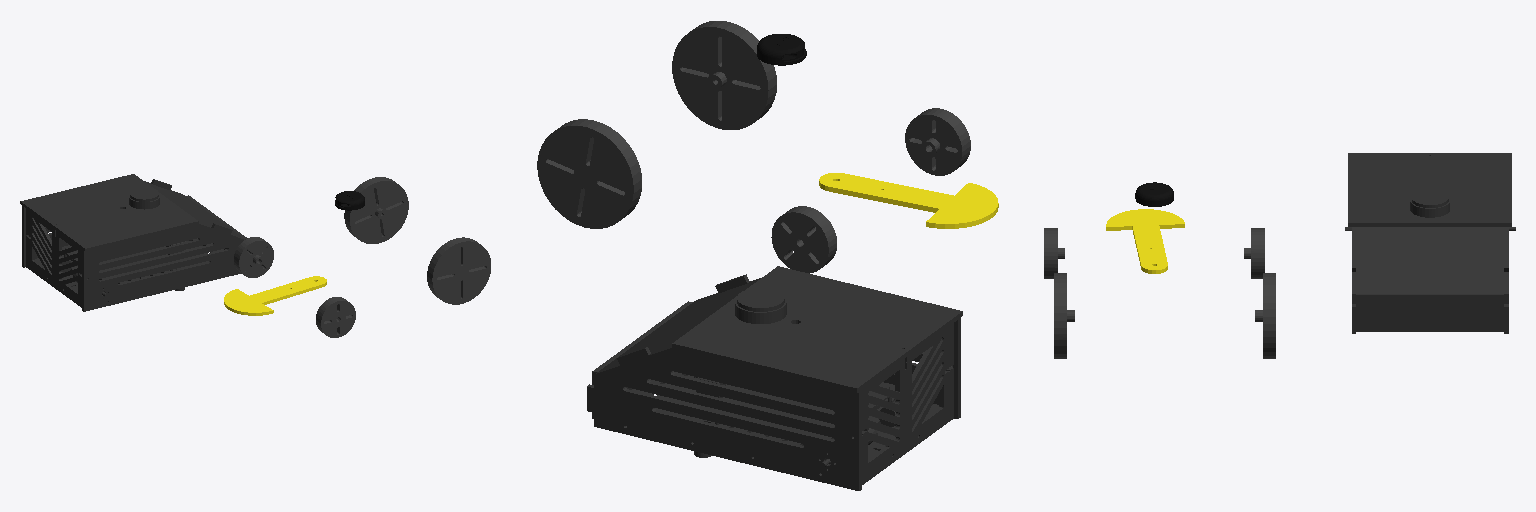
The robot description file, URDF, robot "metal_detector_bot":
<?xml version="1.0" encoding="utf-8"?>
<!-- This URDF was automatically created by SolidWorks to URDF Exporter! Originally created by [author] ([email redacted]) 
     Commit Version: 1.6.0-1-g15f4949  Build Version: 1.6.7594.29634
     For more information, please see http://wiki.ros.org/sw_urdf_exporter -->
<robot
  name="metal_detector_bot">
  <link
    name="base_link">
    <inertial>
      <origin
        xyz="0.324697690746331 -0.519406767156155 0.192858657939441"
        rpy="0 0 0" />
      <mass
        value="3.68397420212594" />
      <inertia
        ixx="0.0209130525071478"
        ixy="6.08657151565062E-07"
        ixz="-0.00129761516660942"
        iyy="0.0391259397176633"
        iyz="1.5992950501523E-08"
        izz="0.0539534827114343" />
    </inertial>
    <visual>
      <origin
        xyz="0 0 0"
        rpy="0 0 0" />
      <geometry>
        <mesh
          filename="package://metal_detector_bot/meshes/base_link.STL" />
      </geometry>
      <material
        name="">
        <color
          rgba="0.250980392156863 0.250980392156863 0.250980392156863 1" />
      </material>
    </visual>
    <collision>
      <origin
        xyz="0 0 0"
        rpy="0 0 0" />
      <geometry>
        <mesh
          filename="package://metal_detector_bot/meshes/base_link.STL" />
      </geometry>
    </collision>
  </link>
  <link
    name="Back_left_wheel_link">
    <inertial>
      <origin
        xyz="0 0 0.0262587770530892"
        rpy="0 0 0" />
      <mass
        value="0.49830589190105" />
      <inertia
        ixx="0.000864068748819036"
        ixy="-1.53511821201862E-21"
        ixz="-3.38949670235677E-20"
        iyy="0.000864068748819036"
        iyz="-1.0316315853768E-21"
        izz="0.00167126892614855" />
    </inertial>
    <visual>
      <origin
        xyz="0 0 0"
        rpy="0 0 0" />
      <geometry>
        <mesh
          filename="package://metal_detector_bot/meshes/Back_left_wheel_link.STL" />
      </geometry>
      <material
        name="">
        <color
          rgba="0.298039215686275 0.298039215686275 0.298039215686275 1" />
      </material>
    </visual>
    <collision>
      <origin
        xyz="0 0 0"
        rpy="0 0 0" />
      <geometry>
        <mesh
          filename="package://metal_detector_bot/meshes/Back_left_wheel_link.STL" />
      </geometry>
    </collision>
  </link>
  <joint
    name="Back_left_wheel_joint"
    type="continuous">
    <origin
      xyz="0.48383 -0.66997 0.14637"
      rpy="1.5708 0 0" />
    <parent
      link="base_link" />
    <child
      link="Back_left_wheel_link" />
    <axis
      xyz="0 0 1" />
    <limit
      lower="0"
      upper="0"
      effort="0"
      velocity="0" />
  </joint>
  <link
    name="Back_right_wheel_link">
    <inertial>
      <origin
        xyz="-1.38777878078145E-17 1.11022302462516E-16 -0.0128912229469108"
        rpy="0 0 0" />
      <mass
        value="0.498305891901051" />
      <inertia
        ixx="0.000864068748819039"
        ixy="2.71050543121376E-20"
        ixz="-9.34238749322121E-20"
        iyy="0.000864068748819038"
        iyz="6.50887516749926E-19"
        izz="0.00167126892614856" />
    </inertial>
    <visual>
      <origin
        xyz="0 0 0"
        rpy="0 0 0" />
      <geometry>
        <mesh
          filename="package://metal_detector_bot/meshes/Back_right_wheel_link.STL" />
      </geometry>
      <material
        name="">
        <color
          rgba="0.298039215686275 0.298039215686275 0.298039215686275 1" />
      </material>
    </visual>
    <collision>
      <origin
        xyz="0 0 0"
        rpy="0 0 0" />
      <geometry>
        <mesh
          filename="package://metal_detector_bot/meshes/Back_right_wheel_link.STL" />
      </geometry>
    </collision>
  </link>
  <joint
    name="Back_right_wheel_joint"
    type="continuous">
    <origin
      xyz="0.48383 -0.32952 0.14637"
      rpy="1.5708 -1.3963 3.1416" />
    <parent
      link="base_link" />
    <child
      link="Back_right_wheel_link" />
    <axis
      xyz="0 0 1" />
    <limit
      lower="0"
      upper="0"
      effort="0"
      velocity="0" />
  </joint>
  <link
    name="Front_left_wheel_link">
    <inertial>
      <origin
        xyz="-2.77555756156289E-17 -1.38777878078145E-17 0.0260109649102439"
        rpy="0 0 0" />
      <mass
        value="0.172260974459748" />
      <inertia
        ixx="0.000112055736650577"
        ixy="1.02659101699552E-21"
        ixz="5.48524870394726E-22"
        iyy="0.000112055736650577"
        iyz="2.96384707822115E-22"
        izz="0.000202988063086608" />
    </inertial>
    <visual>
      <origin
        xyz="0 0 0"
        rpy="0 0 0" />
      <geometry>
        <mesh
          filename="package://metal_detector_bot/meshes/Front_left_wheel_link.STL" />
      </geometry>
      <material
        name="">
        <color
          rgba="0.298039215686275 0.298039215686275 0.298039215686275 1" />
      </material>
    </visual>
    <collision>
      <origin
        xyz="0 0 0"
        rpy="0 0 0" />
      <geometry>
        <mesh
          filename="package://metal_detector_bot/meshes/Front_left_wheel_link.STL" />
      </geometry>
    </collision>
  </link>
  <joint
    name="Front_left_wheel_joint"
    type="continuous">
    <origin
      xyz="0.13457 -0.68787 0.11335"
      rpy="1.5708 0 0" />
    <parent
      link="base_link" />
    <child
      link="Front_left_wheel_link" />
    <axis
      xyz="0 0 1" />
    <limit
      lower="0"
      upper="0"
      effort="0"
      velocity="0" />
  </joint>
  <link
    name="Front_right_wheel_link">
    <inertial>
      <origin
        xyz="3.05311331771918E-16 -4.16333634234434E-16 -0.0131390350897561"
        rpy="0 0 0" />
      <mass
        value="0.172260974459748" />
      <inertia
        ixx="0.000112055736650577"
        ixy="1.35525271560688E-20"
        ixz="-2.75192086644509E-20"
        iyy="0.000112055736650577"
        iyz="3.91038572204568E-20"
        izz="0.000202988063086608" />
    </inertial>
    <visual>
      <origin
        xyz="0 0 0"
        rpy="0 0 0" />
      <geometry>
        <mesh
          filename="package://metal_detector_bot/meshes/Front_right_wheel_link.STL" />
      </geometry>
      <material
        name="">
        <color
          rgba="0.298039215686275 0.298039215686275 0.298039215686275 1" />
      </material>
    </visual>
    <collision>
      <origin
        xyz="0 0 0"
        rpy="0 0 0" />
      <geometry>
        <mesh
          filename="package://metal_detector_bot/meshes/Front_right_wheel_link.STL" />
      </geometry>
    </collision>
  </link>
  <joint
    name="Front_right_wheel_joint"
    type="continuous">
    <origin
      xyz="0.13457 -0.31162 0.11335"
      rpy="1.5708 -0.87933 3.1416" />
    <parent
      link="base_link" />
    <child
      link="Front_right_wheel_link" />
    <axis
      xyz="0 0 1" />
    <limit
      lower="0"
      upper="0"
      effort="0"
      velocity="0" />
  </joint>
  <link
    name="Lidar_link">
    <inertial>
      <origin
        xyz="-6.79587614786925E-05 0.0127572143525103 -0.00287746273821438"
        rpy="0 0 0" />
      <mass
        value="0.0553297294575326" />
      <inertia
        ixx="1.77198970100708E-05"
        ixy="-5.03899483380146E-09"
        ixz="3.90650477574448E-08"
        iyy="3.29681799815038E-05"
        iyz="-2.52552357078286E-07"
        izz="1.80448127856945E-05" />
    </inertial>
    <visual>
      <origin
        xyz="0 0 0"
        rpy="0 0 0" />
      <geometry>
        <mesh
          filename="package://metal_detector_bot/meshes/Lidar_link.STL" />
      </geometry>
      <material
        name="">
        <color
          rgba="0.109803921568627 0.109803921568627 0.109803921568627 1" />
      </material>
    </visual>
    <collision>
      <origin
        xyz="0 0 0"
        rpy="0 0 0" />
      <geometry>
        <mesh
          filename="package://metal_detector_bot/meshes/Lidar_link.STL" />
      </geometry>
    </collision>
  </link>
  <joint
    name="Lidar_joint"
    type="revolute">
    <origin
      xyz="0.28528 -0.51932 0.297"
      rpy="1.5777 -0.00018804 -1.5436" />
    <parent
      link="base_link" />
    <child
      link="Lidar_link" />
    <axis
      xyz="0 1 0" />
    <limit
      lower="0"
      upper="0"
      effort="0"
      velocity="0" />
  </joint>
  <link
    name="Metal_detector_plate_link">
    <inertial>
      <origin
        xyz="-0.140649491426954 0.00399961617526758 -4.44089209850063E-16"
        rpy="0 0 0" />
      <mass
        value="0.150226233073953" />
      <inertia
        ixx="0.000116851232021106"
        ixy="-1.7623068319973E-19"
        ixz="-2.71558762889729E-18"
        iyy="0.00103678804074853"
        iyz="-9.96731230999088E-21"
        izz="0.000921539221880216" />
    </inertial>
    <visual>
      <origin
        xyz="0 0 0"
        rpy="0 0 0" />
      <geometry>
        <mesh
          filename="package://metal_detector_bot/meshes/Metal_detector_plate_link.STL" />
      </geometry>
      <material
        name="">
        <color
          rgba="1 0.937254901960784 0.137254901960784 1" />
      </material>
    </visual>
    <collision>
      <origin
        xyz="0 0 0"
        rpy="0 0 0" />
      <geometry>
        <mesh
          filename="package://metal_detector_bot/meshes/Metal_detector_plate_link.STL" />
      </geometry>
    </collision>
  </link>
  <joint
    name="Metal_detector_plate_joint"
    type="revolute">
    <origin
      xyz="0.19318 -0.51932 0.10936"
      rpy="1.5701 -0.0068962 0.093846" />
    <parent
      link="base_link" />
    <child
      link="Metal_detector_plate_link" />
    <axis
      xyz="0 1 0" />
    <limit
      lower="0"
      upper="0"
      effort="0"
      velocity="0" />
  </joint>

 <transmission name="left_wheel_transmission">
  <type>transmission_interface/SimpleTransmission</type>
  <joint name="Back_left_wheel_joint">
    <hardwareInterface>hardware_interface/VelocityJointInterface</hardwareInterface>  
  </joint>
  <actuator name="left_wheel_actuator">
    <mechanicalReduction>7</mechanicalReduction>
    <hardwareInterface>VelocityJointInterface</hardwareInterface>
  </actuator>
</transmission>

<transmission name="right_wheel_transmission">
  <type>transmission_interface/SimpleTransmission</type>
  <joint name="Back_right_wheel_joint">
    <hardwareInterface>hardware_interface/VelocityJointInterface</hardwareInterface>  
  </joint>
  <actuator name="right_wheel_actuator">
    <mechanicalReduction>7</mechanicalReduction>
    <hardwareInterface>VelocityJointInterface</hardwareInterface>
  </actuator>
</transmission>


<gazebo>

    <plugin name="differential_drive_controller" filename="libgazebo_ros_diff_drive.so">
      <alwaysOn>true</alwaysOn>
      <legacyMode>false</legacyMode>
      <updateRate>40</updateRate>
      <leftJoint>Back_left_wheel_joint</leftJoint>
      <rightJoint>Back_right_wheel_joint</rightJoint>
      <wheelSeparation>0.2794</wheelSeparation>
      <wheelDiameter>0.1524</wheelDiameter>
      <torque>20</torque>
      <commandTopic>/cmd_vel</commandTopic>
      <odometryTopic>/odom</odometryTopic>
      <odometryFrame>odom</odometryFrame>
      <robotBaseFrame>base_link</robotBaseFrame>
      <publishWheelTF>true</publishWheelTF>
      <publishOdomTF>true</publishOdomTF>
    </plugin>

  <plugin name="gazebo_ros_control" filename="libgazebo_ros_contol.so">
  </plugin>
</gazebo>

</robot>

--- Render facts (derived) ---
3 views of the same robot in one strip: view 1: azimuth 30°, elevation 25°; view 2: azimuth 150°, elevation 25°; view 3: azimuth 270°, elevation 25° (orthographic).
Model metal_detector_bot with 7 links and 6 joints (2 revolute, 4 continuous), rooted at base_link, posed every joint at zero.
Visible links, largest first — view 1: base_link, Back_left_wheel_link, Back_right_wheel_link, Metal_detector_plate_link, Front_right_wheel_link, Front_left_wheel_link; view 2: base_link, Back_right_wheel_link, Back_left_wheel_link, Metal_detector_plate_link, Front_left_wheel_link, Front_right_wheel_link, Lidar_link; view 3: base_link, Metal_detector_plate_link, Back_left_wheel_link, Back_right_wheel_link, Lidar_link, Front_right_wheel_link, Front_left_wheel_link.
Link boxes in pixels (left/top/right/bottom): base_link: left=20, top=174, right=247, bottom=311; Back_left_wheel_link: left=427, top=237, right=490, bottom=304; Back_right_wheel_link: left=344, top=177, right=408, bottom=243; Metal_detector_plate_link: left=224, top=276, right=326, bottom=315; Front_right_wheel_link: left=234, top=237, right=273, bottom=277; Front_left_wheel_link: left=316, top=297, right=355, bottom=337; base_link: left=587, top=266, right=962, bottom=490; Back_right_wheel_link: left=537, top=119, right=641, bottom=228; Back_left_wheel_link: left=672, top=21, right=776, bottom=129; Metal_detector_plate_link: left=819, top=173, right=998, bottom=228; Front_left_wheel_link: left=905, top=108, right=970, bottom=175; Front_right_wheel_link: left=771, top=206, right=836, bottom=273; Lidar_link: left=757, top=34, right=806, bottom=65; base_link: left=1345, top=153, right=1515, bottom=333; Metal_detector_plate_link: left=1106, top=209, right=1184, bottom=273; Back_left_wheel_link: left=1054, top=273, right=1074, bottom=358; Back_right_wheel_link: left=1255, top=273, right=1275, bottom=358; Lidar_link: left=1135, top=182, right=1173, bottom=206; Front_right_wheel_link: left=1244, top=228, right=1264, bottom=278; Front_left_wheel_link: left=1044, top=228, right=1064, bottom=278.
Bounding box of the posed robot: 0.7957 × 0.8877 × 0.3667 m (x, y, z).
Meshes: 7 distinct files referenced, 7 mesh visuals loaded (7 binary STL).